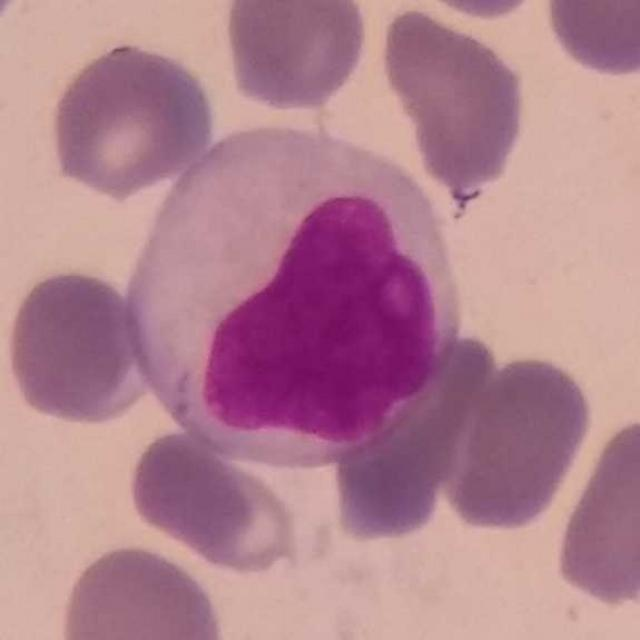mono: (129, 116, 473, 475)
